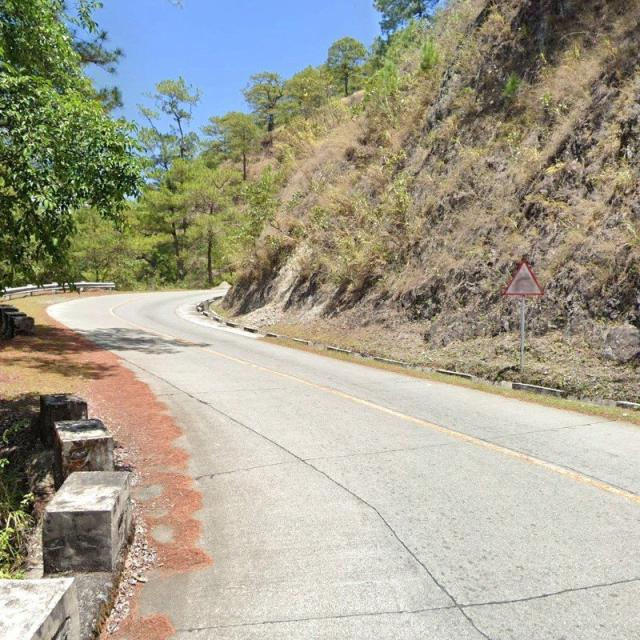warn_right_curve: (504, 260, 543, 295)
